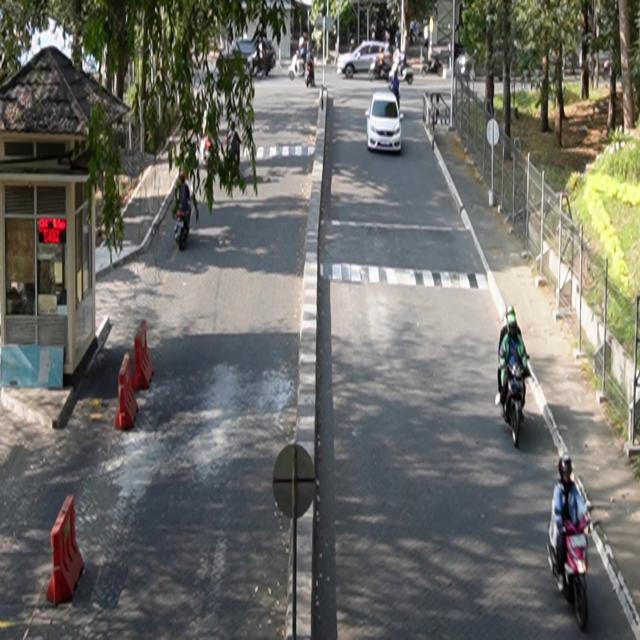car: (366, 92, 404, 154)
